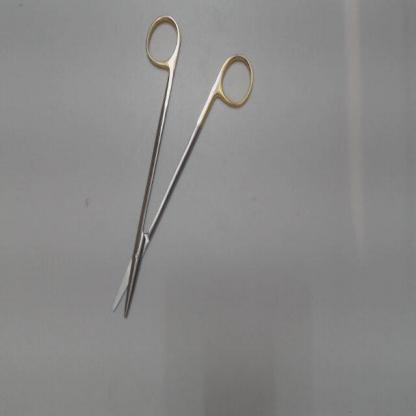7 Metzenbaum Scissors: (107, 10, 257, 327)
